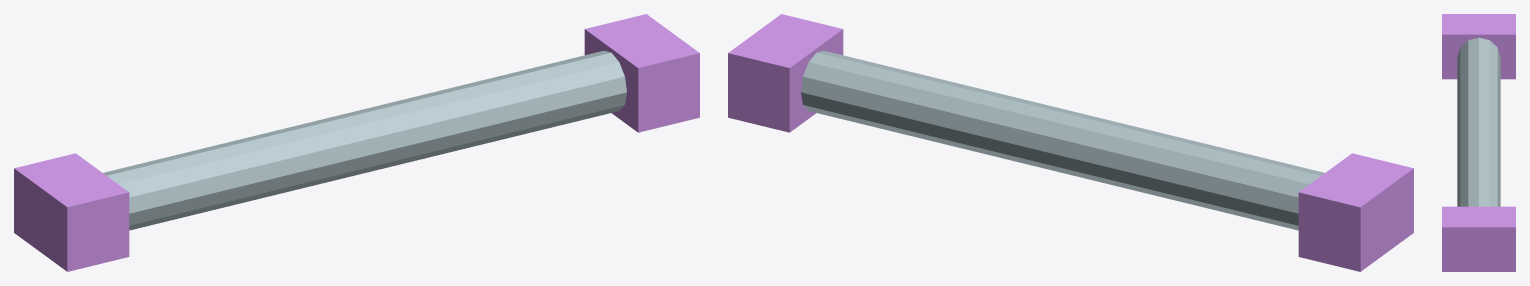
The model's file is towel-bar.glb.
3 renders of one model, left to right at view 1: azimuth 30°, elevation 25°; view 2: azimuth 150°, elevation 25°; view 3: azimuth 270°, elevation 25°, orthographic. The views are drawn at different scales.
Parts seen in each view (by area): view 1: world; view 2: world; view 3: world.
Part boxes in pixels (<box>): world: <box>14,14,699,271</box>; world: <box>728,14,1413,271</box>; world: <box>1442,14,1515,271</box>.
Size of the model in its own units: 0.82 by 0.08 by 0.12.
